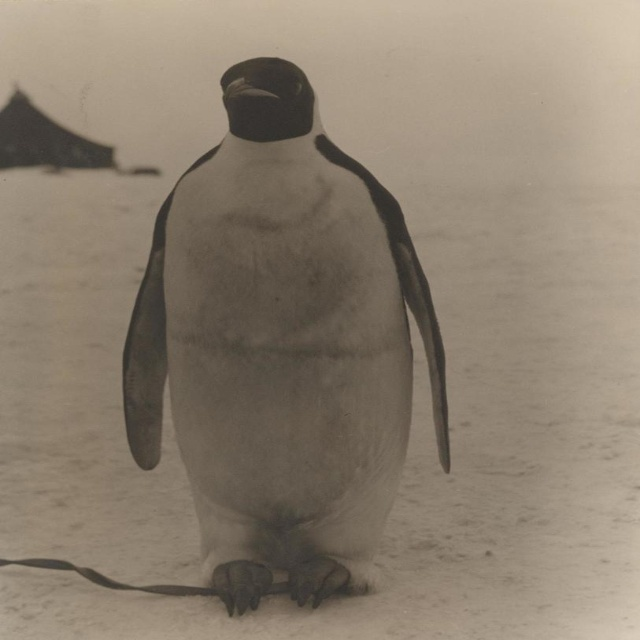Penguin: (100, 48, 470, 640)
